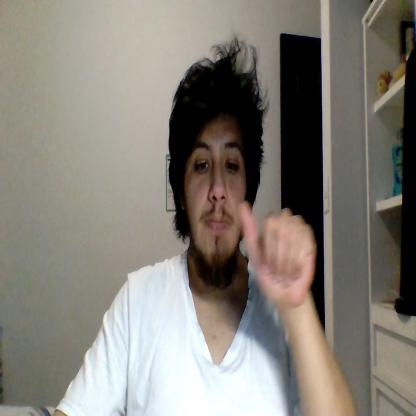A: (240, 201, 316, 305)
